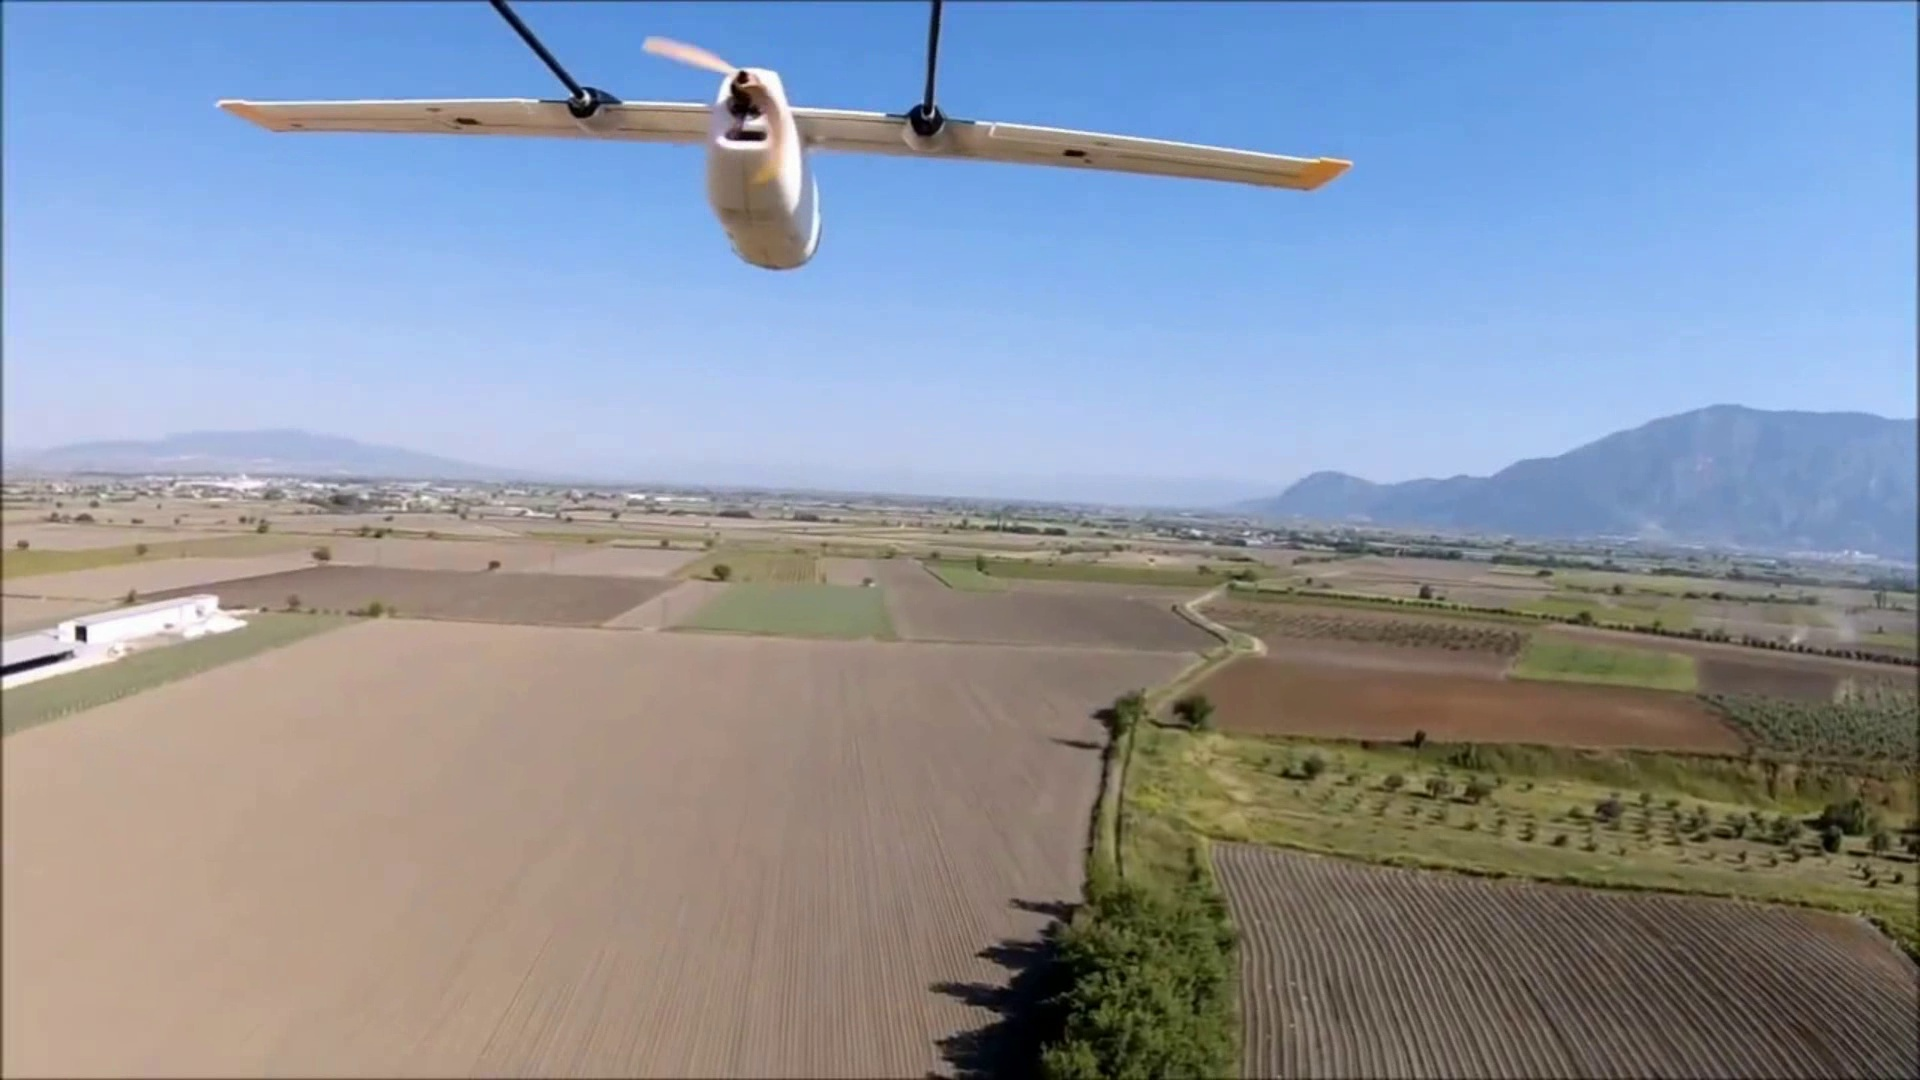airplane: (219, 3, 1348, 272)
